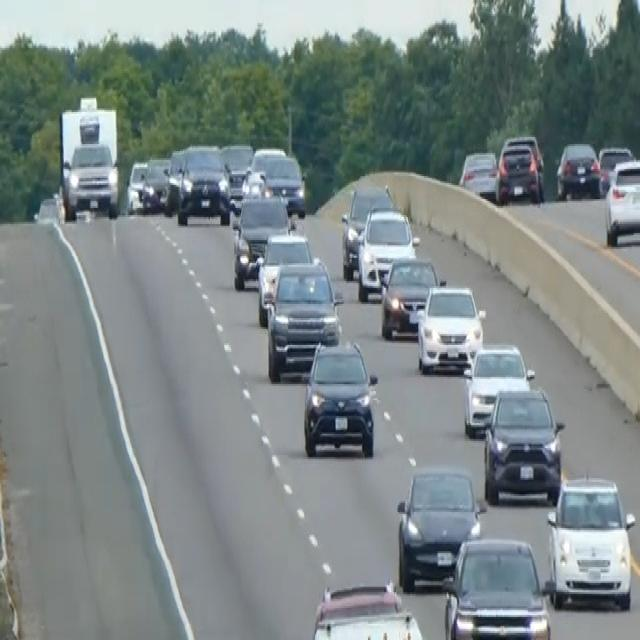car: (545, 473, 635, 611), (442, 534, 551, 638), (395, 464, 482, 592), (482, 382, 565, 505), (265, 260, 343, 380), (302, 338, 378, 458), (309, 578, 425, 638), (462, 342, 534, 438), (416, 281, 485, 373), (355, 204, 420, 300), (231, 192, 292, 288), (254, 230, 314, 326), (380, 252, 444, 340), (340, 181, 394, 279), (176, 144, 230, 226), (495, 135, 543, 205), (604, 157, 639, 247), (555, 139, 601, 199), (264, 153, 306, 217), (243, 144, 286, 197), (458, 147, 498, 201), (597, 142, 634, 194), (220, 141, 253, 199), (140, 154, 170, 212), (162, 146, 187, 215), (125, 158, 148, 214)
truck: (56, 94, 121, 220)
